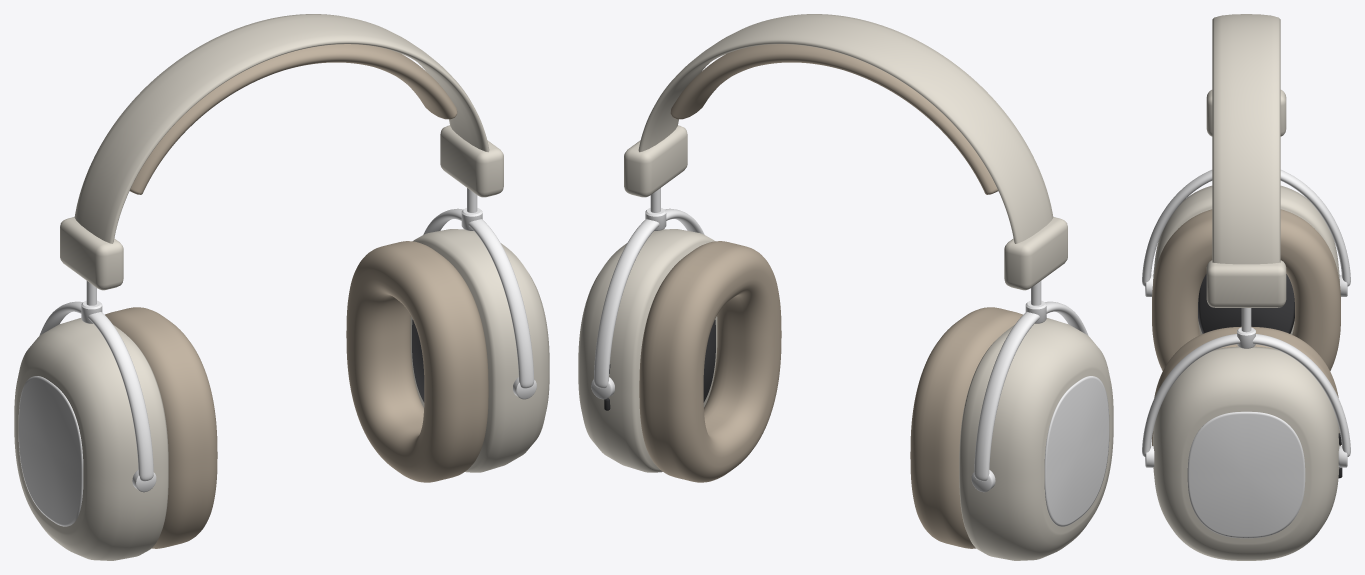
Rendered from headphones.glb.
3 renders of one model, left to right at view 1: azimuth 30°, elevation 25°; view 2: azimuth 150°, elevation 25°; view 3: azimuth 270°, elevation 25°, orthographic. The views are drawn at different scales.
Parts seen in each view (by area): view 1: Cushion_R, Shell_L, Headband, Shell_R, Cushion_L, Cap_L, Headband_Pad, Yoke_L, Yoke_R, Band_End_-1, Band_End_1, Fabric_R; view 2: Cushion_R, Shell_L, Headband, Shell_R, Cushion_L, Cap_L, Headband_Pad, Yoke_L, Yoke_R, Band_End_-1, Band_End_1, Fabric_R; view 3: Shell_R, Headband, Cap_R, Cushion_L, Band_End_1, Yoke_R, Shell_L, Yoke_L, Fabric_L, Cushion_R, Band_End_-1, Collar_R.
Part boxes in pixels (x1,y1,x2,y2): Cushion_R: (346,241,488,482); Shell_L: (14,318,168,560); Headband: (74,14,489,243); Shell_R: (410,229,549,472); Cushion_L: (105,307,217,548); Cap_L: (18,376,83,526); Headband_Pad: (129,44,457,194); Yoke_L: (39,301,153,481); Yoke_R: (423,208,534,388); Band_End_-1: (60,217,123,290); Band_End_1: (440,125,503,197); Fabric_R: (412,319,424,402); Cushion_R: (639,241,781,482); Shell_L: (959,318,1113,560); Headband: (638,14,1053,243); Shell_R: (578,229,717,472); Cushion_L: (910,307,1022,548); Cap_L: (1044,376,1109,526); Headband_Pad: (670,44,998,194); Yoke_L: (974,301,1088,481); Yoke_R: (593,208,704,388); Band_End_-1: (1004,217,1067,290); Band_End_1: (624,125,687,197); Fabric_R: (703,319,715,402); Shell_R: (1153,346,1339,560); Headband: (1212,14,1280,264); Cap_R: (1187,411,1305,538); Cushion_L: (1152,209,1340,370); Band_End_1: (1206,260,1286,307); Yoke_R: (1142,334,1350,456); Shell_L: (1153,185,1339,334); Yoke_L: (1142,170,1350,286); Fabric_L: (1198,274,1294,333); Cushion_R: (1152,326,1340,445); Band_End_-1: (1206,90,1286,136); Collar_R: (1237,327,1255,348).
Size of the model in its own units: 20.36 by 19.93 by 8.65.
